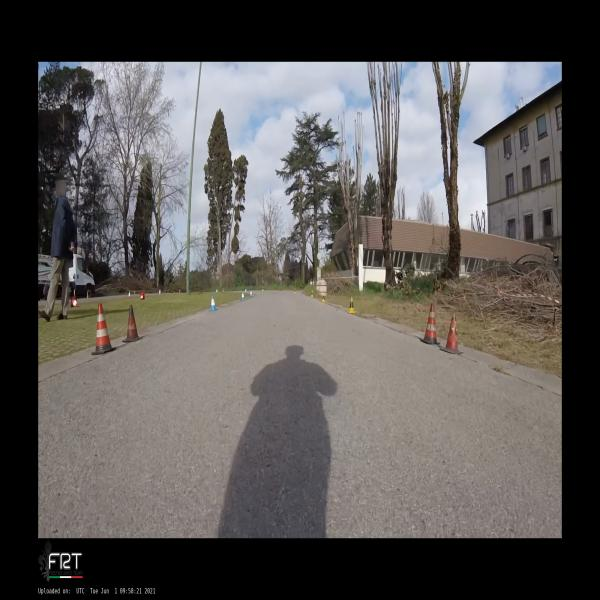blue_cone: (209, 294, 218, 312), (241, 291, 245, 301), (249, 290, 253, 297), (128, 290, 130, 298), (159, 289, 161, 295)
large_orange_cone: (92, 303, 117, 355), (420, 302, 441, 344)
orange_cone: (70, 296, 78, 308), (140, 292, 144, 300)
unknown_cone: (439, 314, 464, 354), (122, 305, 143, 342), (86, 292, 89, 298)
yellow_cone: (347, 296, 356, 314), (322, 293, 326, 303), (311, 290, 313, 297), (294, 288, 296, 294), (262, 286, 264, 291)
